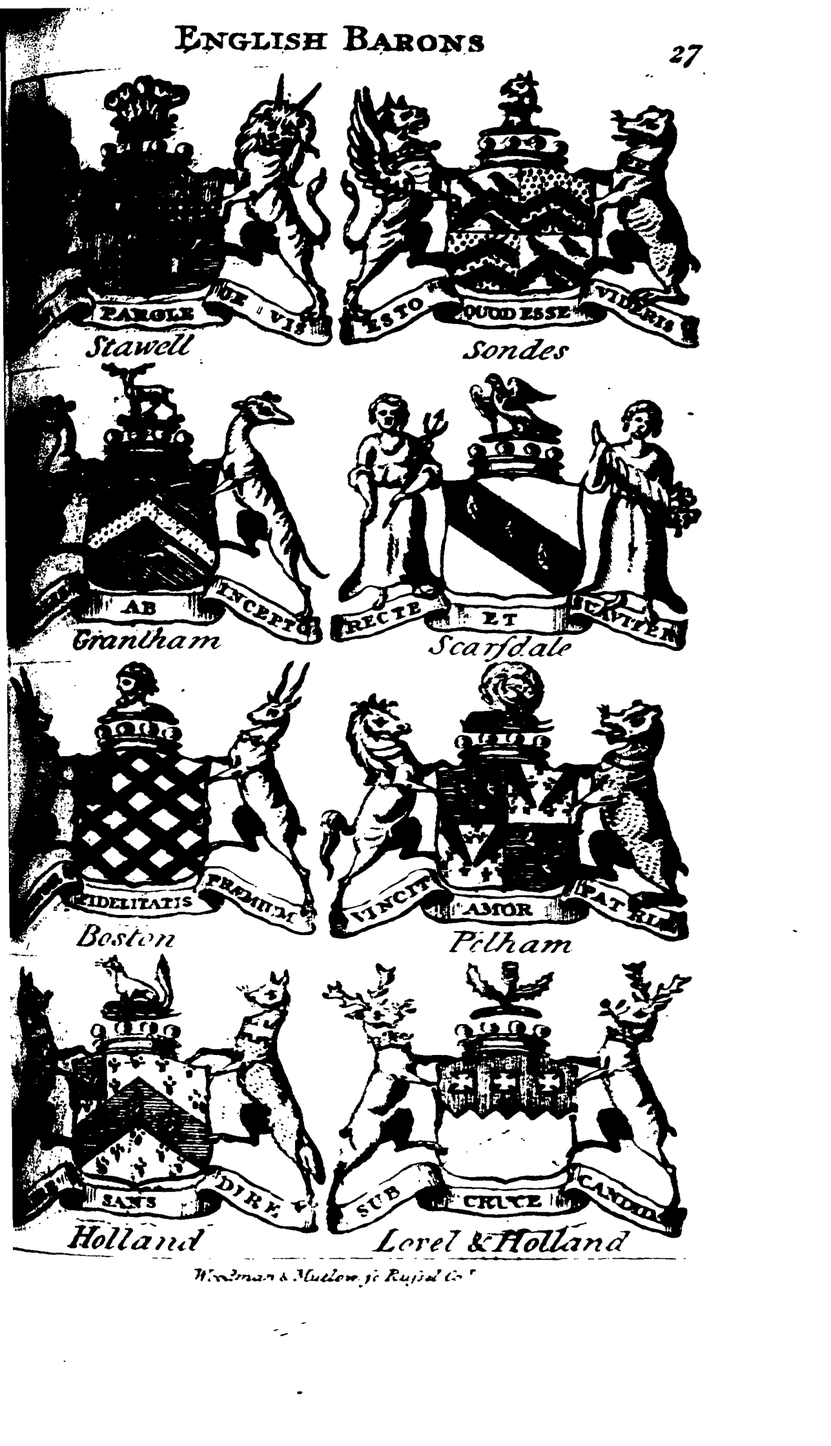coat_of_arms: (326, 961, 716, 1257), (322, 656, 690, 960), (326, 74, 700, 371), (326, 362, 692, 663), (2, 75, 333, 359), (17, 957, 323, 1258), (11, 369, 323, 662), (9, 663, 319, 954)
